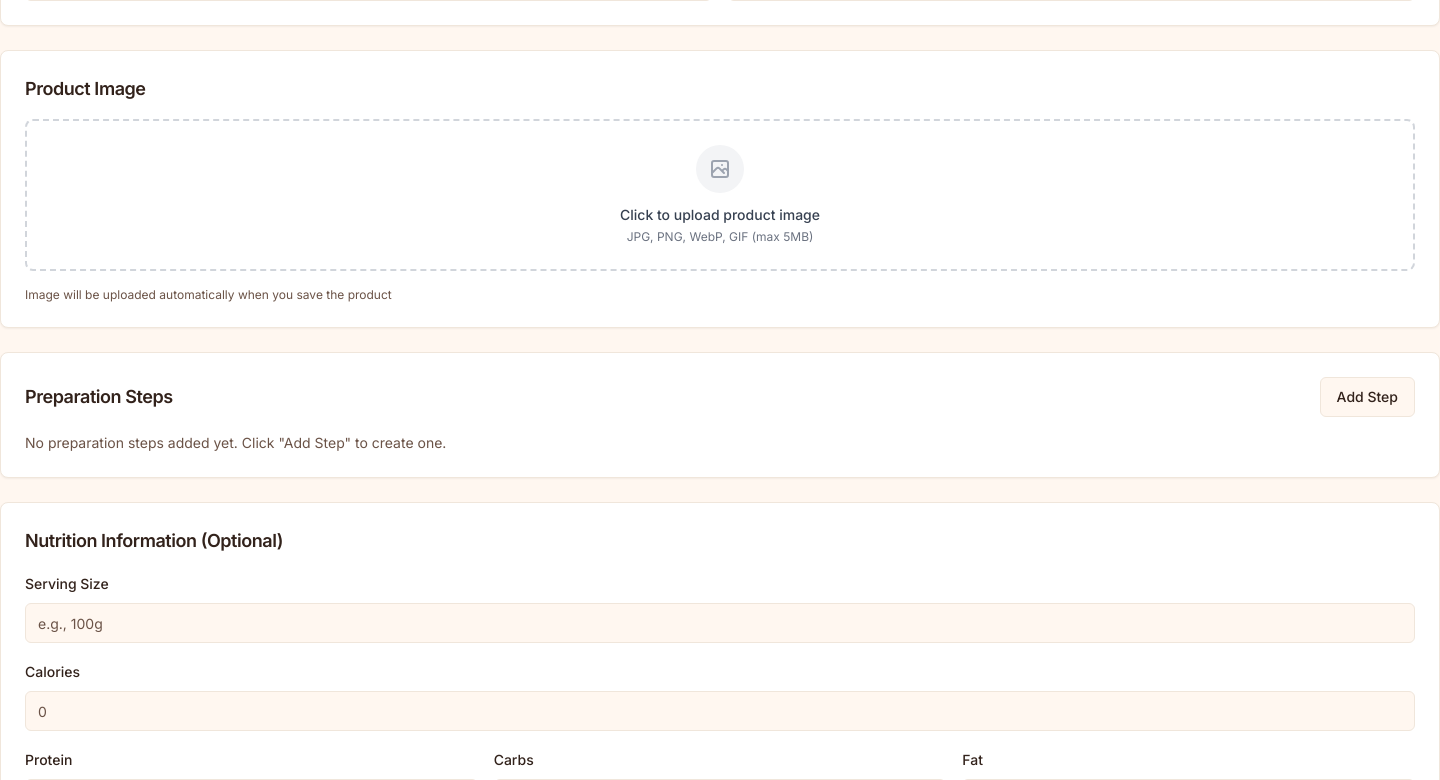
Scenario: ProductForm › adds a new preparation step when Add Step button is clicked
(page scrolled)
Click the button "Add Step".
click(1367, 397)  # box [1320,377,1415,417]
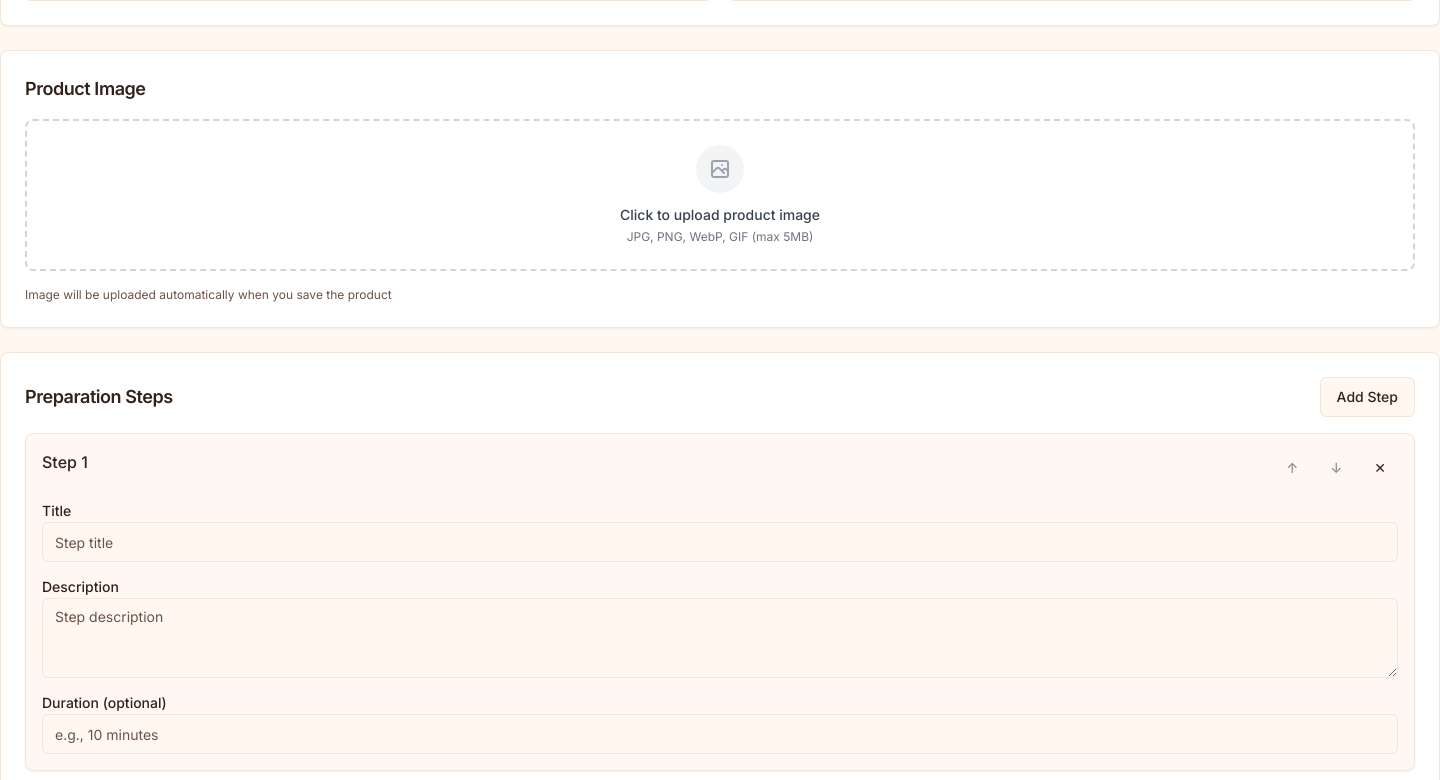
Expected: the text "Step 1" is shown, [42,450,88,474]
